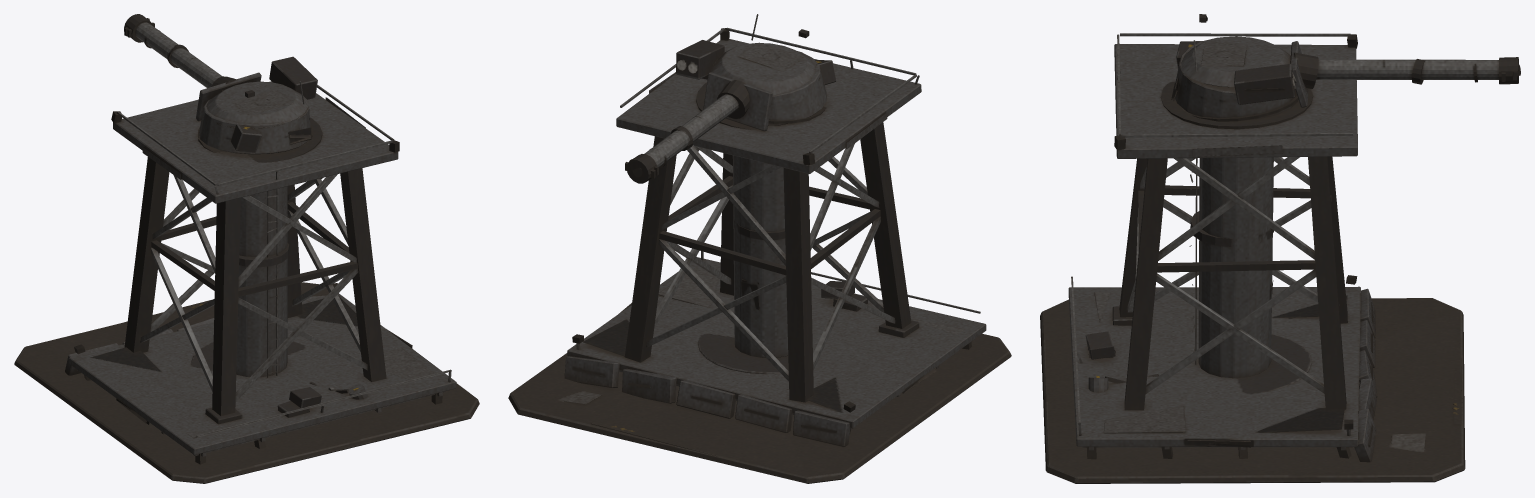
The model's file is chs_breaker_wreck.fbx.
3 views of the same model, side by side, from view 1: azimuth 30°, elevation 25°; view 2: azimuth 150°, elevation 25°; view 3: azimuth 270°, elevation 25° (orthographic). The views are drawn at different scales.
Parts seen in each view (by area): view 1: base_bar, turret_bar; view 2: base_bar, turret_bar; view 3: base_bar, turret_bar.
Boxes of the visible parts, x1=… form: base_bar: x1=14, y1=81, x2=479, y2=483; turret_bar: x1=124, y1=14, x2=317, y2=154; base_bar: x1=508, y1=27, x2=1011, y2=483; turret_bar: x1=625, y1=14, x2=836, y2=183; base_bar: x1=1040, y1=33, x2=1465, y2=483; turret_bar: x1=1171, y1=14, x2=1520, y2=121.
Size of the model in its own units: 2356 by 2476 by 2679.
2 materials, 2 textured.
